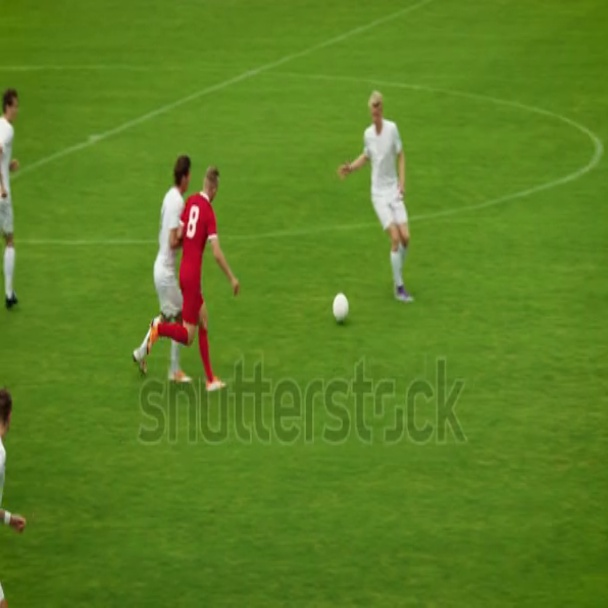ball: (333, 291, 350, 326)
